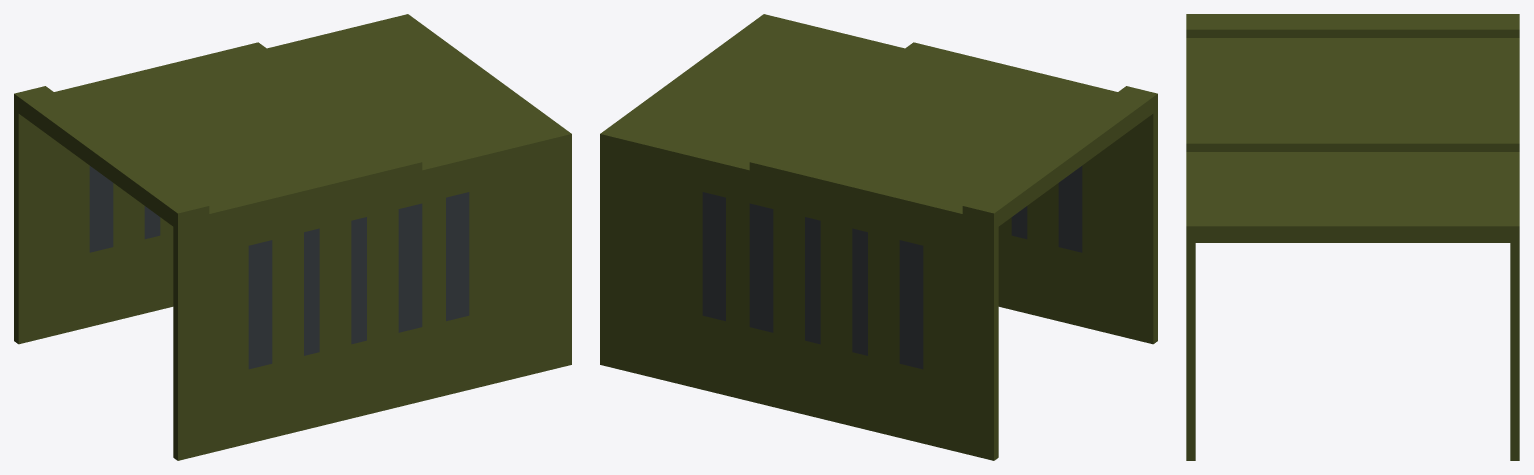
Rendered from military_cargo_truck_bonnet.glb.
3 views of the same model, side by side, from view 1: azimuth 30°, elevation 25°; view 2: azimuth 150°, elevation 25°; view 3: azimuth 270°, elevation 25° (orthographic).
Visible parts, largest first — view 1: body:compound; view 2: body:compound; view 3: body:compound.
Part boxes in pixels (box(x1,y1,x2,y2)): body:compound: box(14, 14, 571, 460); body:compound: box(600, 14, 1157, 460); body:compound: box(1186, 14, 1519, 460).
Size of the model in its own units: 1.56 by 0.9375 by 1.12.
